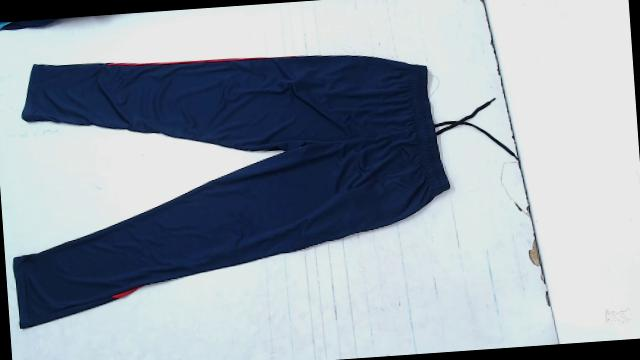new-garment: (13, 55, 449, 327)
